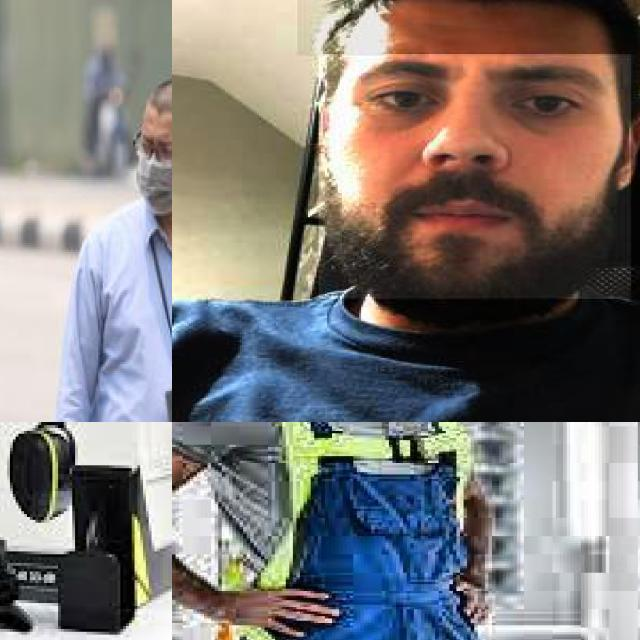Ear-protection: (33, 422, 75, 517)
Harness: (259, 422, 473, 588)
No_Glasses: (325, 47, 597, 140)
face_mask: (134, 133, 172, 216)
face_nomask: (319, 54, 631, 299)
glasses: (131, 134, 172, 170)
head_nohelmet: (297, 0, 639, 57), (142, 69, 172, 128)
person: (172, 0, 640, 422), (57, 76, 172, 422)
